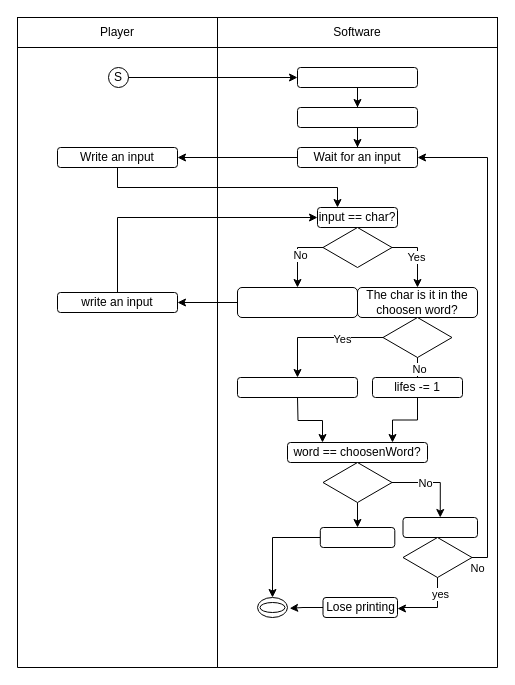
Some shapes in this 515 by 685 pixel diagram are drawn without their labels. The shapes that lost their labels are listed below. From the top down, each one's box as (x1, y1, x2, y2) in pixels, then its label:
(296, 66, 418, 88): Choose a word
(296, 106, 418, 128): Print the info
(236, 286, 358, 318): Print the error and wait for an input
(236, 376, 358, 398): Change the print info
(319, 526, 395, 548): Win printing
(402, 516, 478, 538): lifes == 0?
